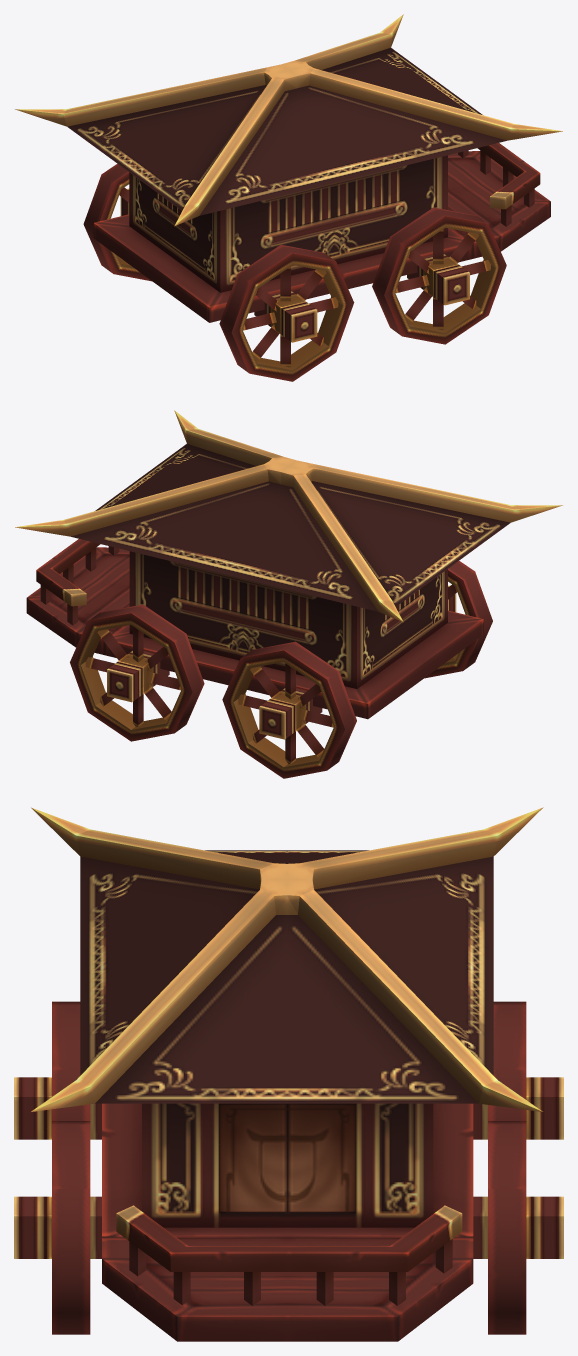
The model's file is FB_ZhuLinXiaoXi_MaChe.FBX.
3 renders of one model, top to bottom at view 1: azimuth 30°, elevation 25°; view 2: azimuth 150°, elevation 25°; view 3: azimuth 270°, elevation 25°, orthographic. The views are drawn at different scales.
Visible parts, largest first — view 1: Object08; view 2: Object08; view 3: Object08.
Boxes of the visible parts, <box> form: Object08: <box>15,14,562,381</box>; Object08: <box>15,410,562,778</box>; Object08: <box>14,807,563,1341</box>.
Size of the model in its own units: 10.71 by 5.84 by 7.53.
